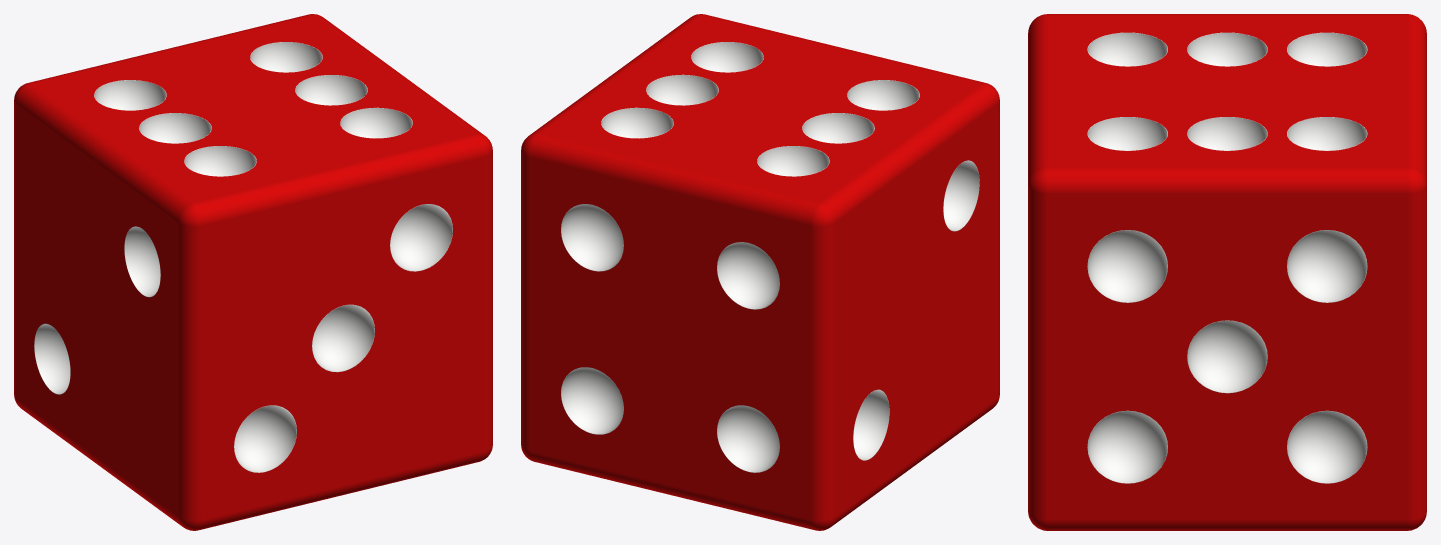
3 views of the same model, side by side, from view 1: azimuth 30°, elevation 25°; view 2: azimuth 150°, elevation 25°; view 3: azimuth 270°, elevation 25° (orthographic). The views are drawn at different scales.
Visible parts, largest first — view 1: Body1, Body20, Body12, Body16, Body48, Body56, Body8, Body5, Body2, Body7, Body4, Body6; view 2: Body1, Body45, Body47, Body39, Body41, Body56, Body48, Body6, Body7, Body4, Body8, Body5 (+1 smaller); view 3: Body1, Body34, Body30, Body32, Body38, Body36, Body2, Body7, Body5, Body4, Body6, Body8.
Part boxes in pixels (x1,y1,x2,y2): Body1: (14,14,492,530); Body20: (390,204,452,271); Body12: (234,405,296,472); Body16: (312,304,374,372); Body48: (34,323,70,394); Body56: (124,226,160,297); Body8: (340,107,412,138); Body5: (139,113,211,143); Body2: (94,80,166,110); Body7: (184,146,256,176); Body4: (250,42,322,72); Body6: (295,75,367,105); Body1: (521,14,999,530); Body45: (561,204,623,271); Body47: (717,242,779,309); Body39: (561,367,623,434); Body41: (717,405,779,472); Body56: (943,160,979,231); Body48: (853,389,889,460); Body6: (646,74,718,105); Body7: (847,80,919,110); Body4: (601,107,673,138); Body8: (691,42,763,72); Body5: (802,113,874,143); Body1: (1028,14,1426,530); Body34: (1187,320,1267,393); Body30: (1087,410,1167,483); Body32: (1287,410,1367,483); Body38: (1287,230,1367,302); Body36: (1087,230,1167,302); Body2: (1287,32,1367,66); Body7: (1087,32,1167,66); Body5: (1187,32,1267,66); Body4: (1287,117,1367,150); Body6: (1187,117,1267,150); Body8: (1087,117,1167,150).
Bounding box in the file's own units: 0.1 × 0.1 × 0.1.
